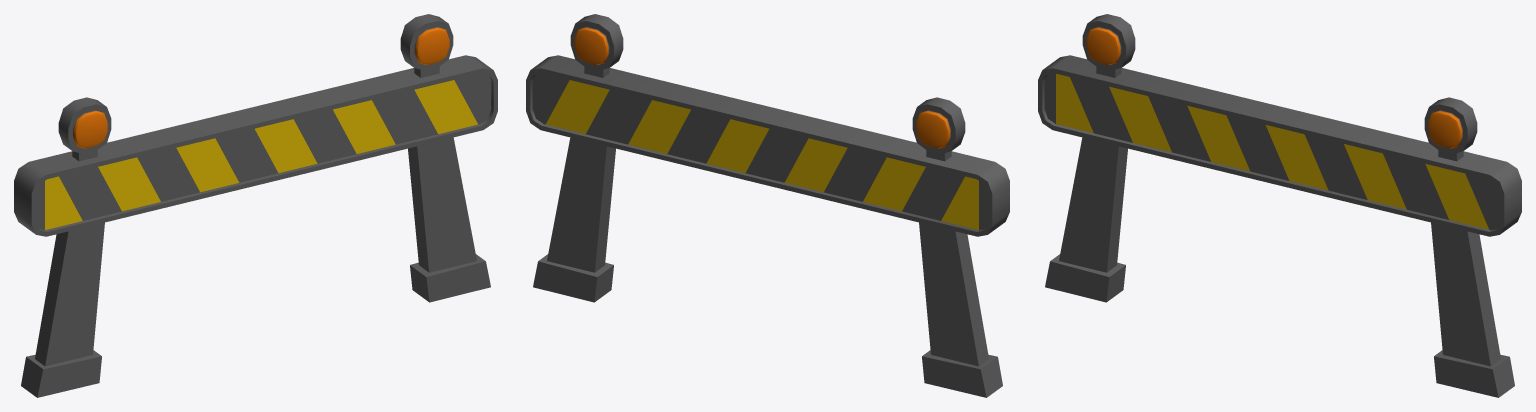
The model's file is Barricade.fbx.
3 renders of one model, left to right at view 1: azimuth 30°, elevation 25°; view 2: azimuth 150°, elevation 25°; view 3: azimuth 330°, elevation 25°, orthographic.
Parts seen in each view (by area): view 1: Barricade; view 2: Barricade; view 3: Barricade.
Boxes of the visible parts, left/top/right/bottom form: Barricade: left=14, top=14, right=497, bottom=397; Barricade: left=526, top=14, right=1009, bottom=397; Barricade: left=1038, top=14, right=1521, bottom=397.
Bounding box in the file's own units: 256 × 145 × 16.87.
